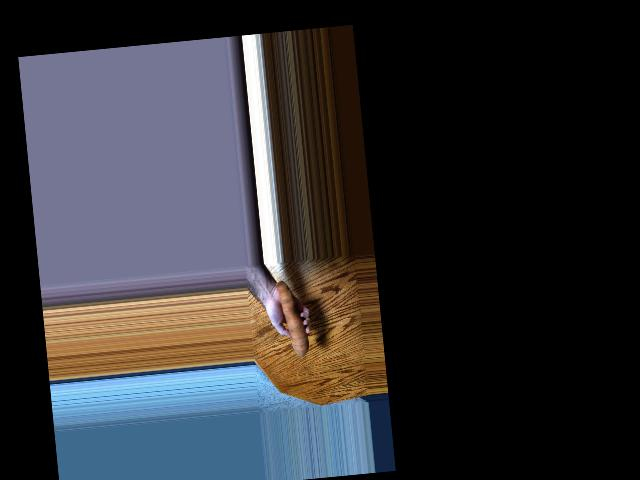sweet_potato: (273, 282, 314, 362)
